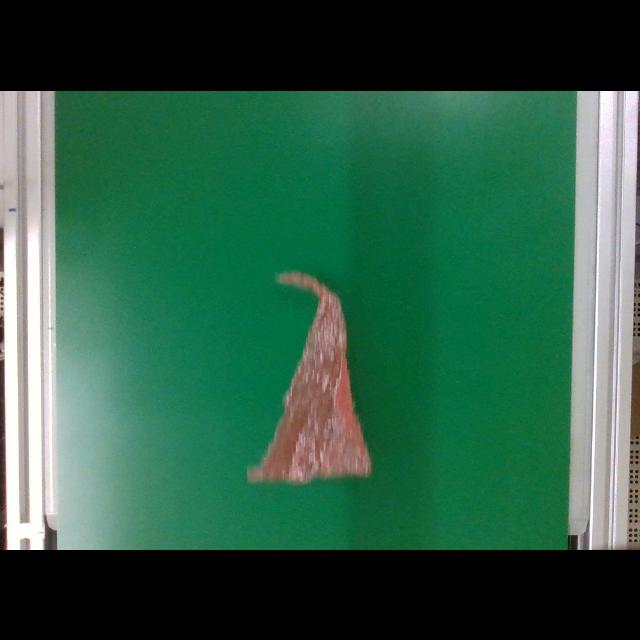scrap_plastic: (246, 266, 376, 488)
